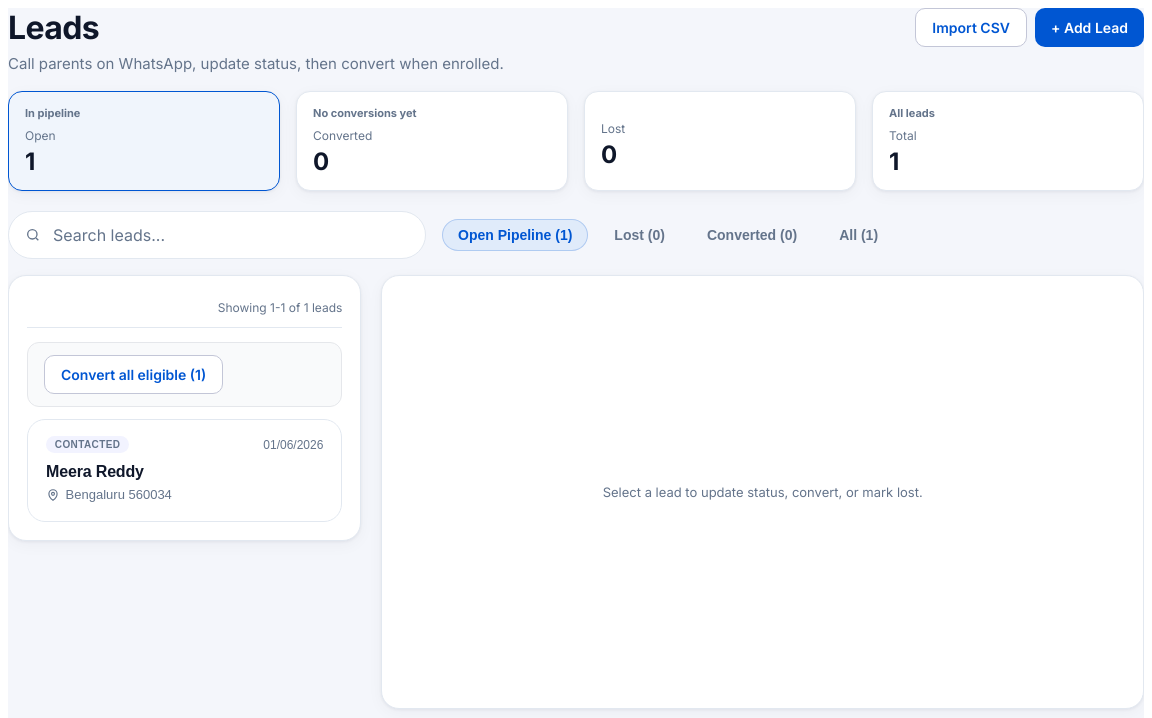
Test: CenterLeadsPage › regression_center_leads_list_uses_application_cards
The image size is (1152, 718).
What coordinates should you click on to do the following:
click the text "Meera Reddy"
I would click on:
 (95, 472)
Its box is [46,464,144,480].
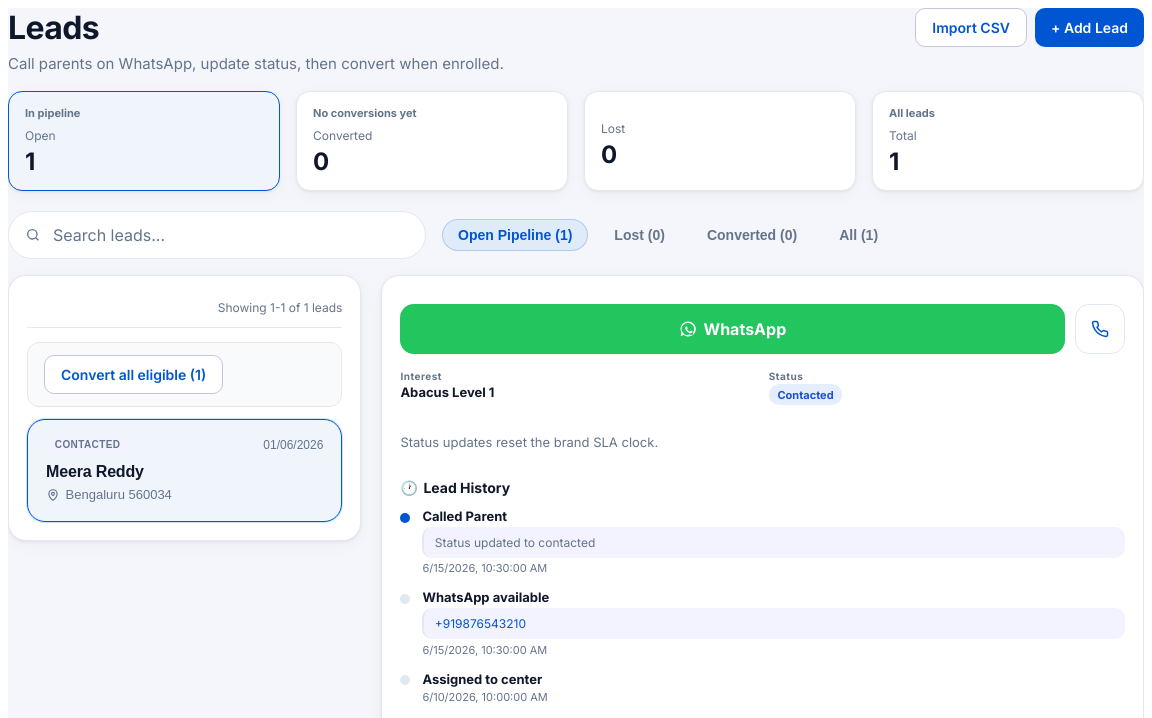
Check: the link named "Call Meera Reddy" is shown, box [1075,304,1125,354]
